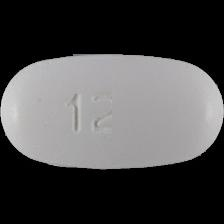10544-924: (0, 0, 224, 224)
